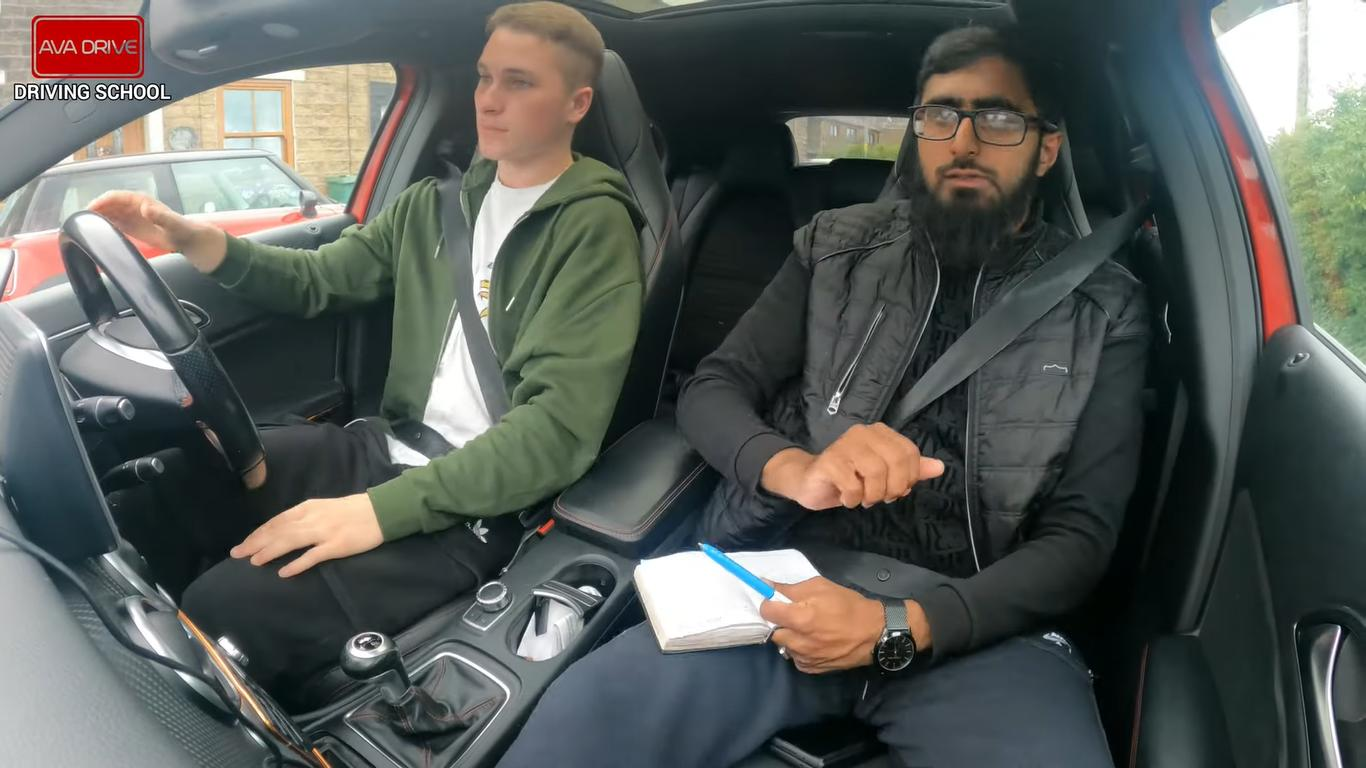seatbelt: (829, 237, 1143, 426), (412, 189, 541, 483)
